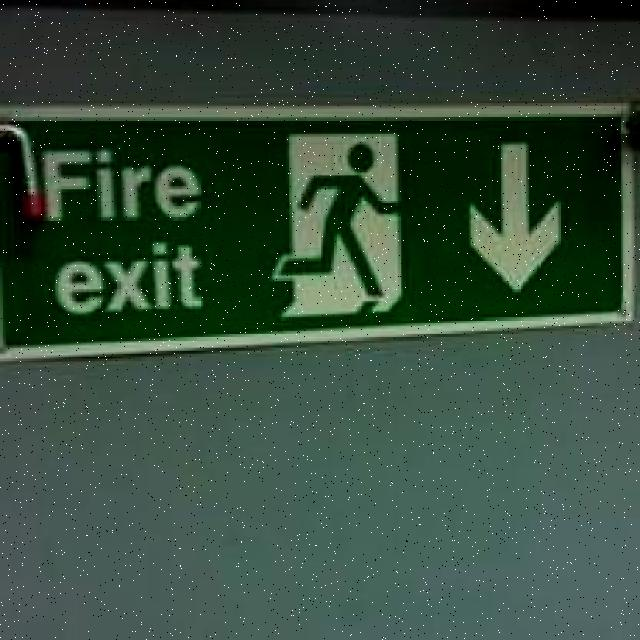emergency_exit: (1, 106, 635, 361)
